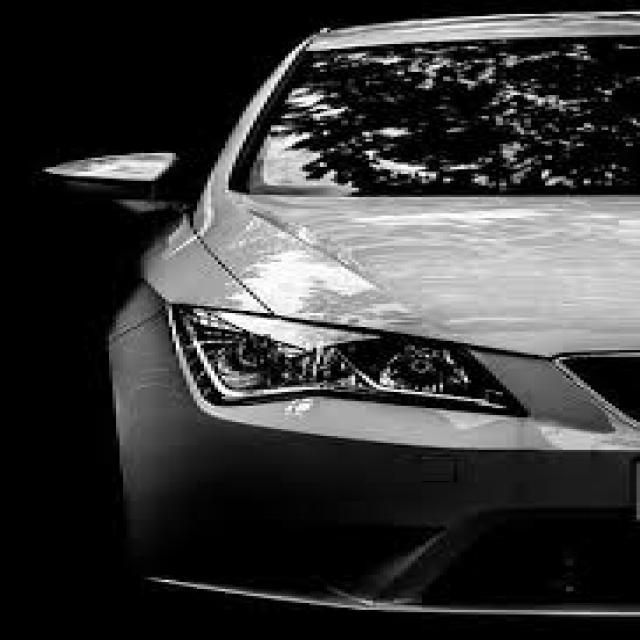Headlight-Damage: (99, 298, 538, 456)
